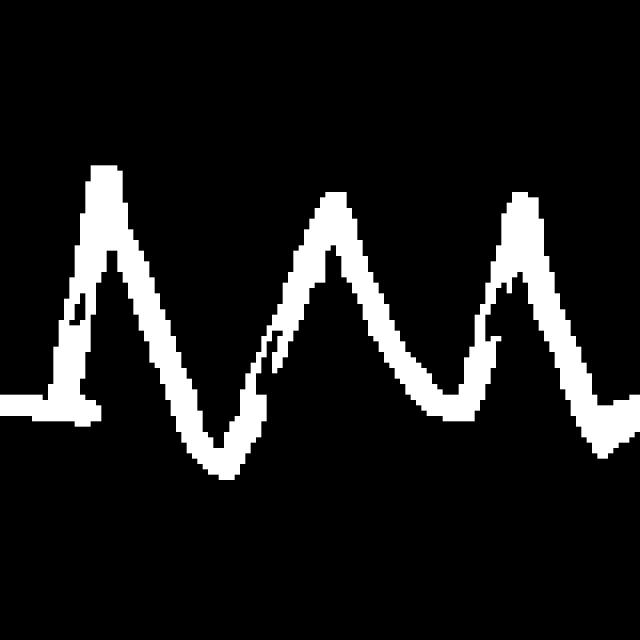resistor: (35, 133, 624, 516)
